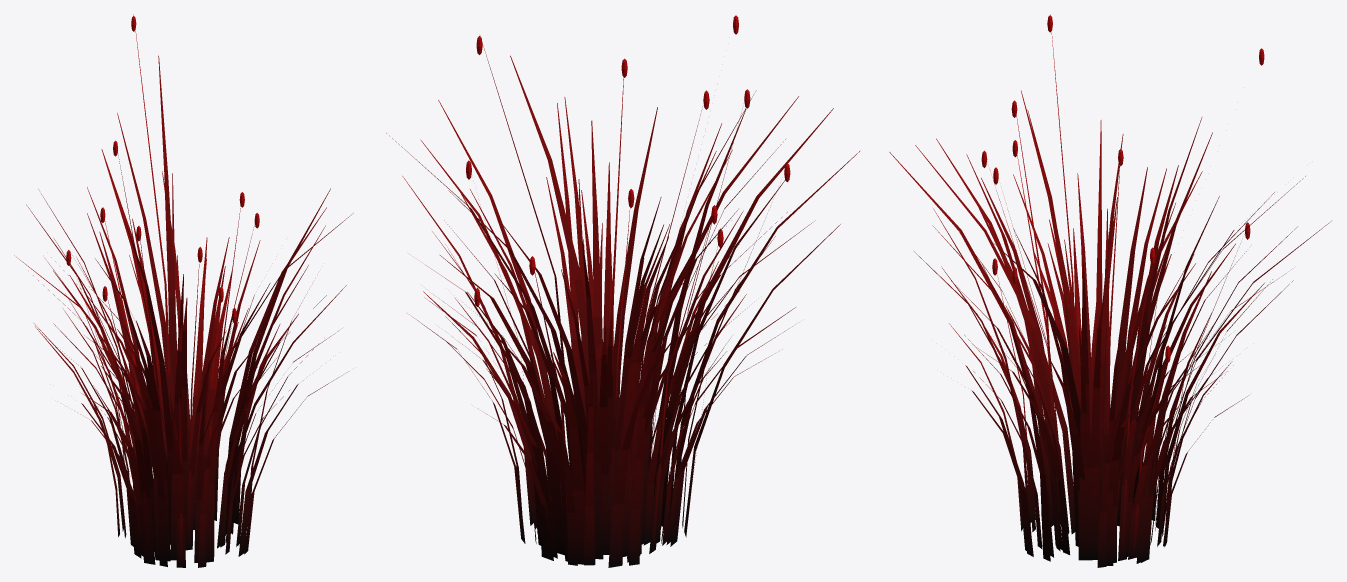
File: prairie_bunchgrass_v1.fbx
3 renders of one model, left to right at view 1: azimuth 30°, elevation 25°; view 2: azimuth 150°, elevation 25°; view 3: azimuth 270°, elevation 25°, orthographic. The views are drawn at different scales.
Visible parts, largest first — view 1: prairie_bunchgrass_v1; view 2: prairie_bunchgrass_v1; view 3: prairie_bunchgrass_v1.
Boxes of the visible parts, bbox=[...] form: prairie_bunchgrass_v1: bbox=[14, 14, 353, 567]; prairie_bunchgrass_v1: bbox=[386, 15, 859, 567]; prairie_bunchgrass_v1: bbox=[889, 14, 1331, 567].
Size of the model in its own units: 67.57 by 96.48 by 76.71.
